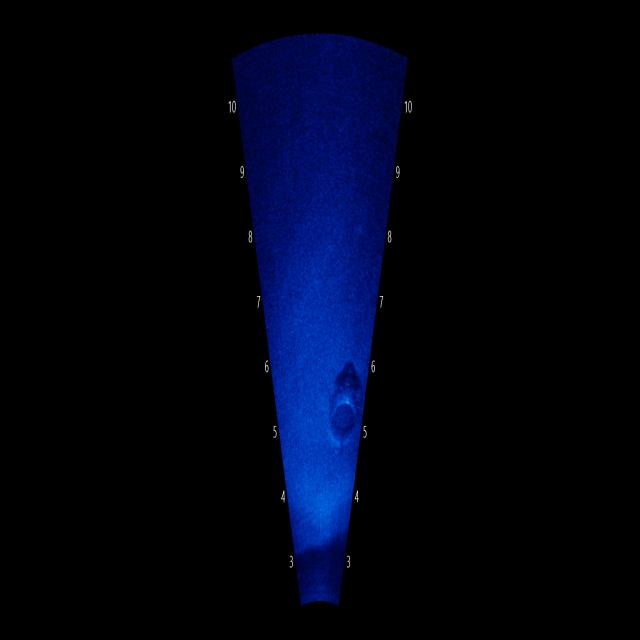circle: (325, 386, 357, 448)
